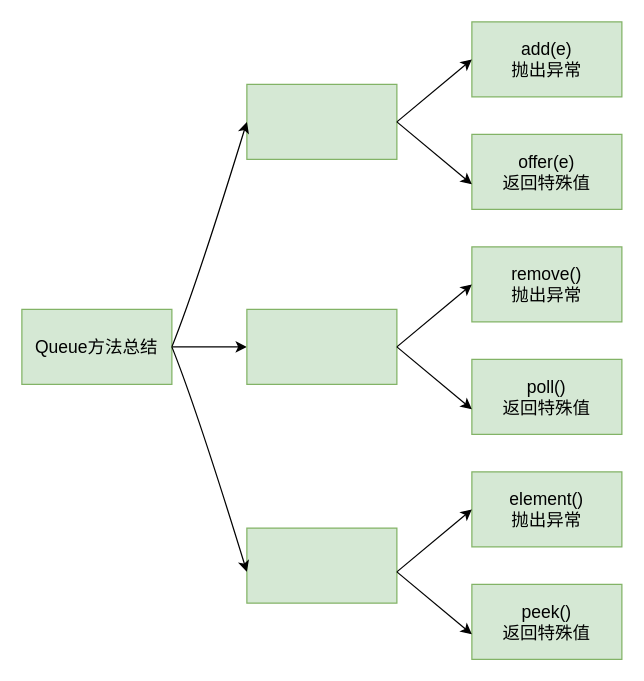
Some shapes in this 644 by 681 pixel diagram are drawn without their labels. Here are the shapes that lost their labels. From the top down, the centre of each, then its label:
At [321,121]: "插入".
At [321,346]: "删除".
At [321,565]: "检查".
